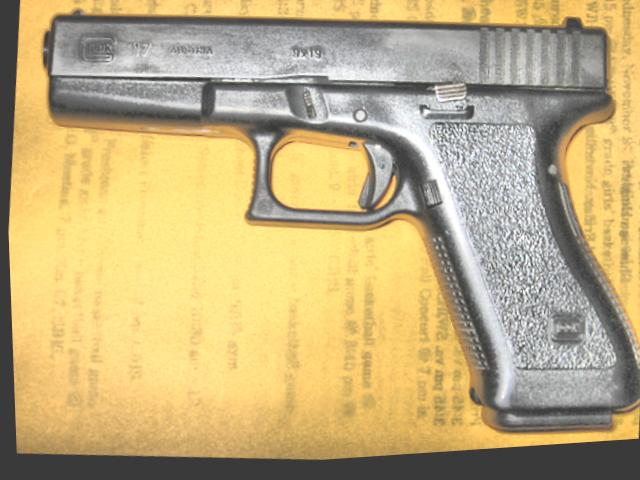pistol: (2, 0, 640, 472)
